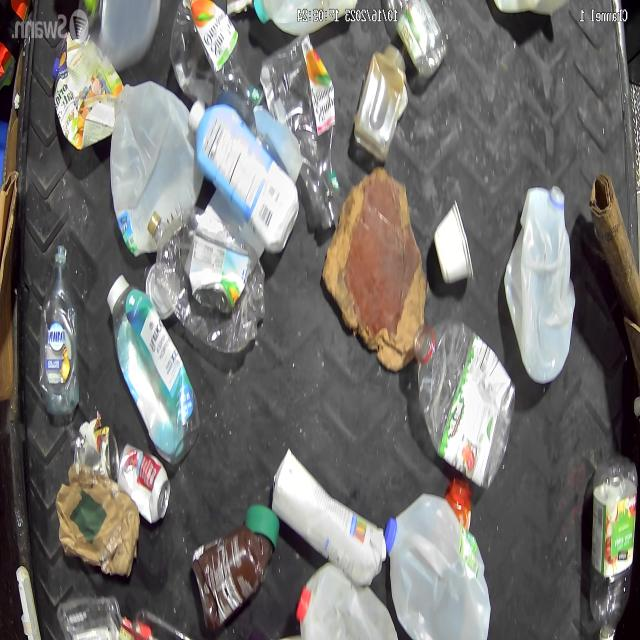can: (116, 442, 171, 524), (73, 423, 120, 482)
milk_jug: (379, 490, 494, 640), (106, 71, 199, 252), (505, 180, 573, 373), (296, 569, 396, 640)
plastic_bottle: (107, 275, 200, 465), (413, 316, 515, 488), (148, 209, 265, 354), (257, 33, 340, 223), (173, 0, 258, 107), (592, 460, 640, 640), (36, 243, 82, 429), (387, 0, 448, 75)
